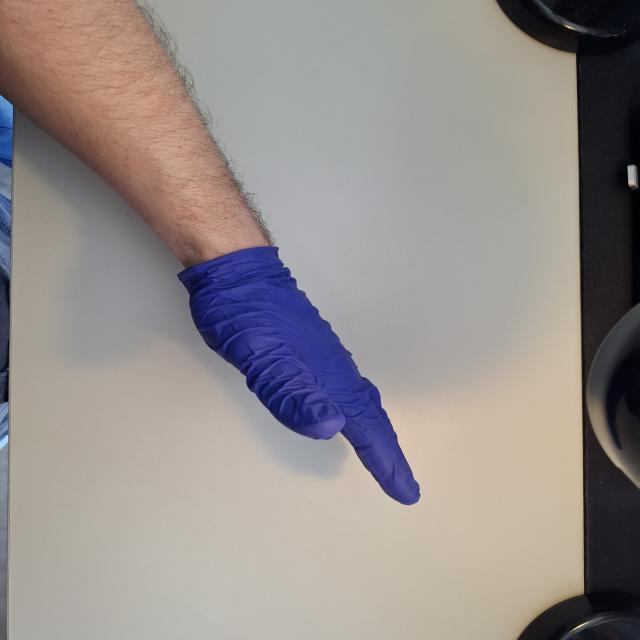glove_on: (174, 246, 423, 508)
